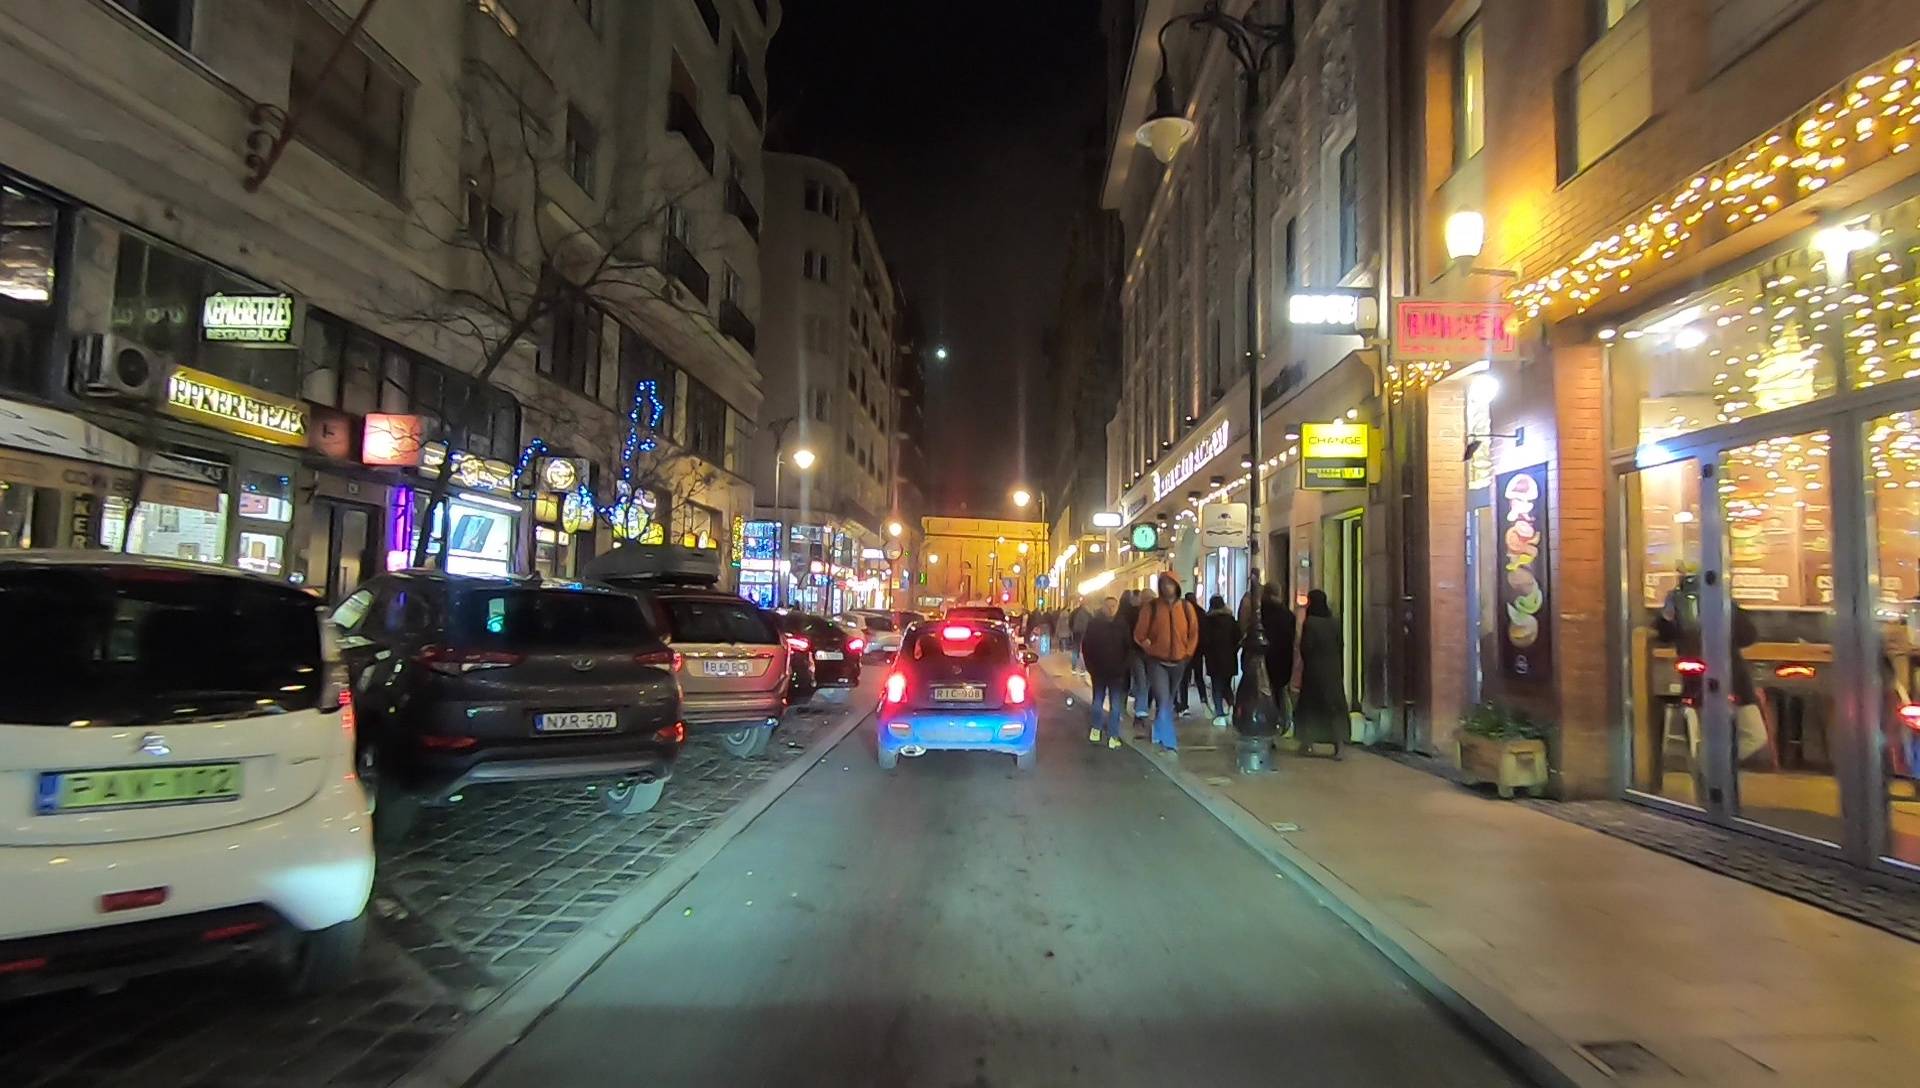person: (1293, 589, 1358, 761), (1149, 573, 1204, 758), (1254, 580, 1295, 747), (1085, 592, 1127, 746), (1203, 593, 1242, 704), (1180, 588, 1210, 716)
